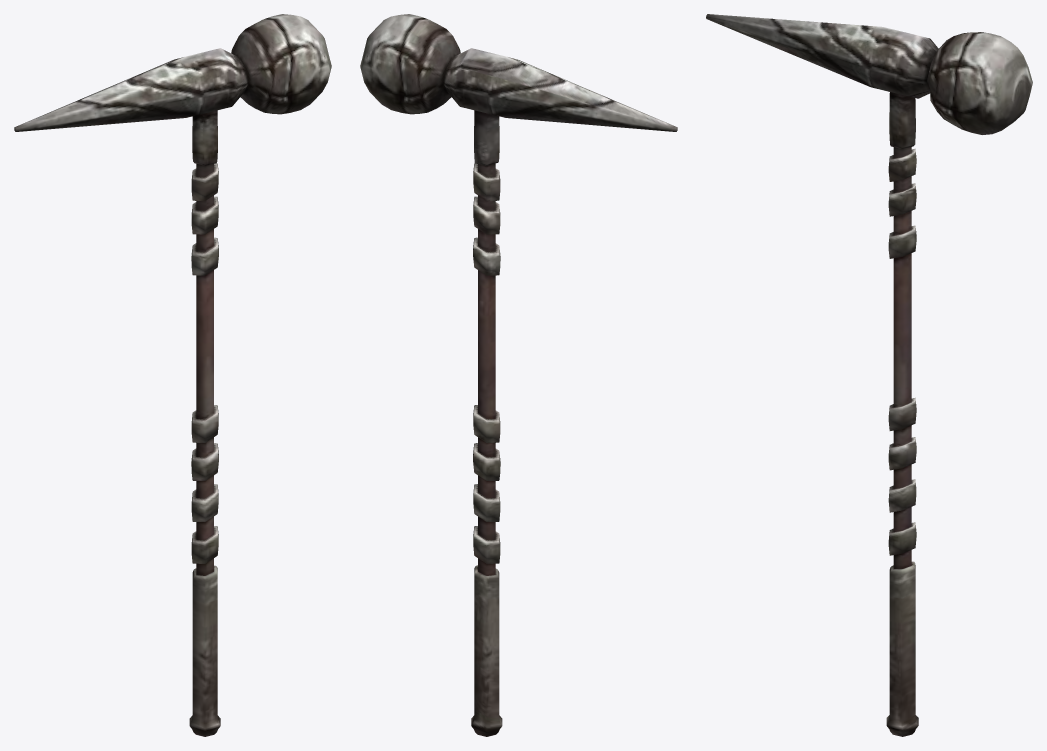
File: weapon-singing-peal.glb
3 views of the same model, side by side, from view 1: azimuth 30°, elevation 25°; view 2: azimuth 150°, elevation 25°; view 3: azimuth 330°, elevation 25° (orthographic). The views are drawn at different scales.
Visible parts, largest first — view 1: hammerE_MDL_q; view 2: hammerE_MDL_q; view 3: hammerE_MDL_q.
Boxes of the visible parts, x1,y1,x2,y2 form: hammerE_MDL_q: (14, 14, 331, 736); hammerE_MDL_q: (360, 14, 677, 736); hammerE_MDL_q: (706, 14, 1032, 736).
Size of the model in its own units: 0.7639 by 1.66 by 0.1481.
1 material, 1 textured.
